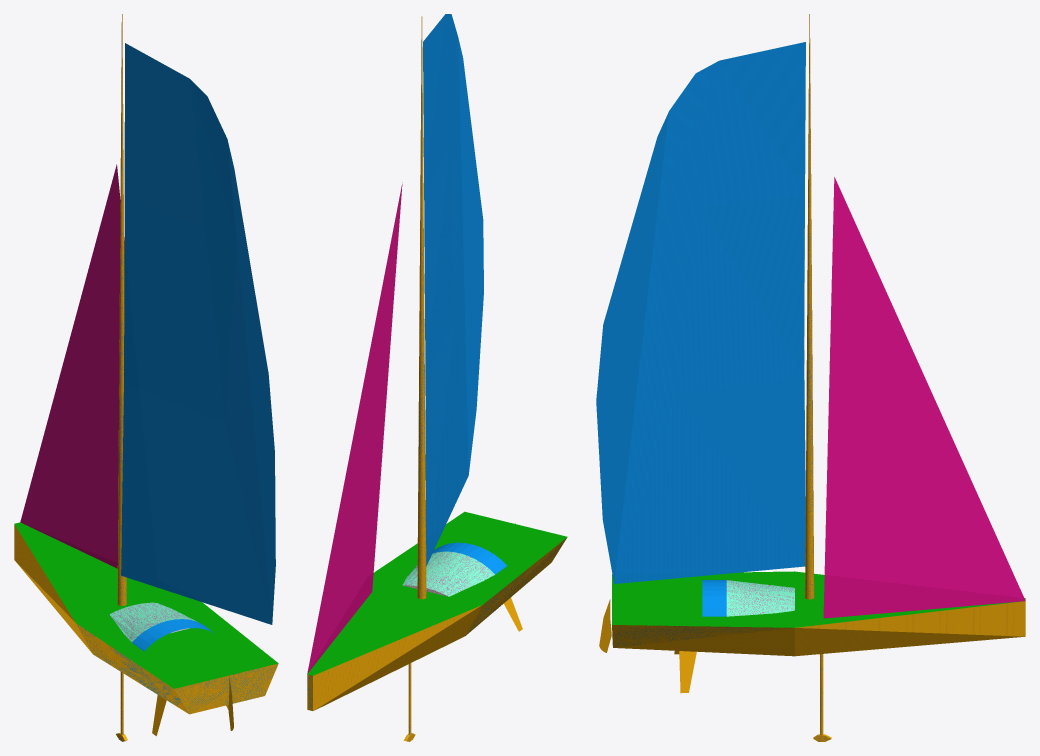
The model's file is foc_babord_monocoque.dae.
3 views of the same model, side by side, from view 1: azimuth 30°, elevation 25°; view 2: azimuth 150°, elevation 25°; view 3: azimuth 270°, elevation 25° (orthographic).
Visible parts, largest first — view 1: SketchUp (×8); view 2: SketchUp (×8); view 3: SketchUp (×8).
Part boxes in pixels (<box>): SketchUp (×8): <box>14,14,278,714</box>; SketchUp (×8): <box>307,14,567,710</box>; SketchUp (×8): <box>596,14,1025,656</box>.
Size of the model in its own units: 22835 by 73551 by 136820.
